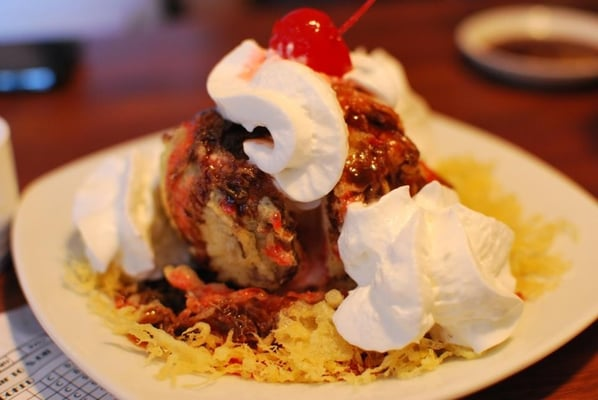curry: (2, 7, 573, 398)
